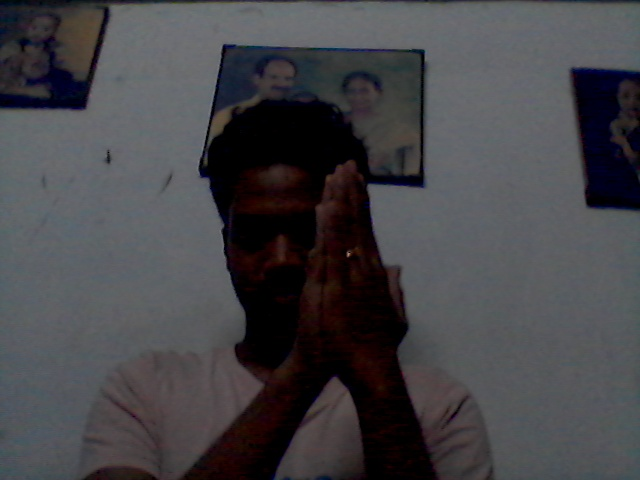Namasthe: (278, 156, 419, 399)
